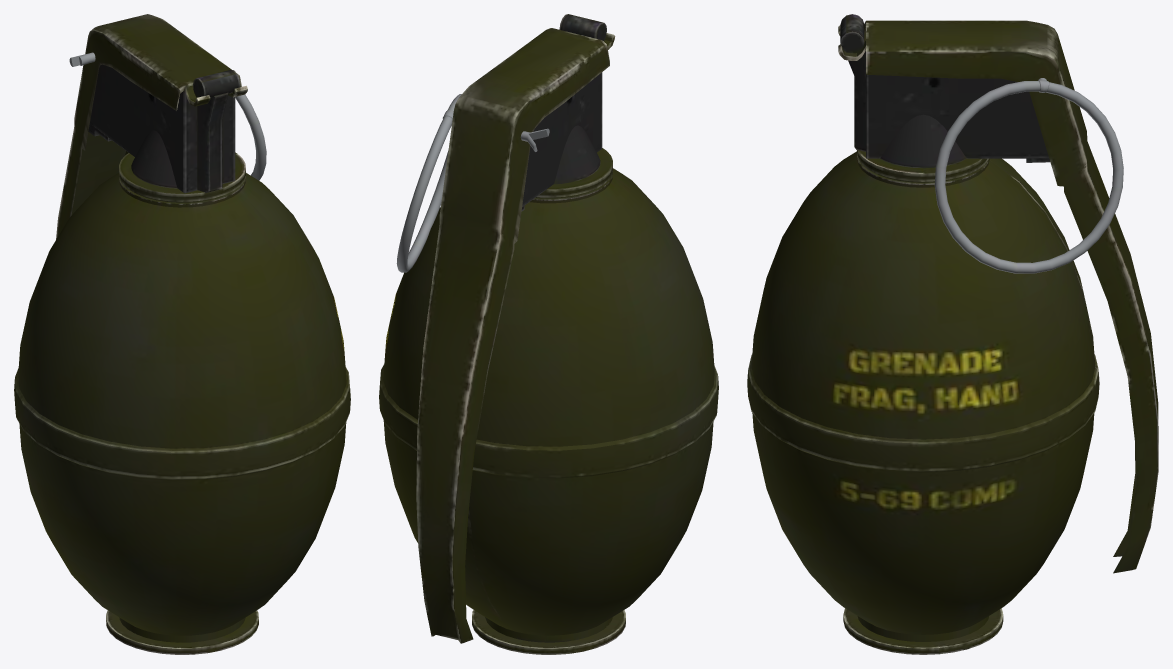
Rendered from FragGrenadeModel.glb.
3 views of the same model, side by side, from view 1: azimuth 30°, elevation 25°; view 2: azimuth 150°, elevation 25°; view 3: azimuth 270°, elevation 25° (orthographic). The views are drawn at different scales.
Parts seen in each view (by area): view 1: Grenade; view 2: Grenade; view 3: Grenade.
Part boxes in pixels (left/top/right/bottom): Grenade: left=14, top=14, right=350, bottom=654; Grenade: left=379, top=14, right=718, bottom=654; Grenade: left=747, top=14, right=1158, bottom=654.
Size of the model in its own units: 0.0544 by 0.1018 by 0.0635.
1 material, 1 textured.
